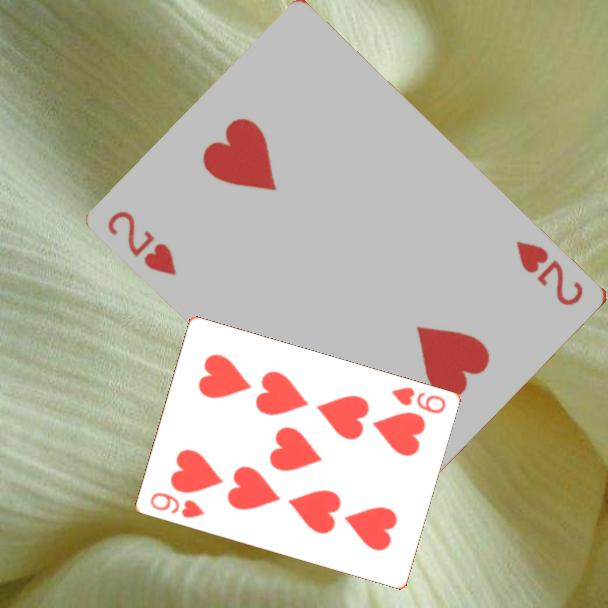h02: (104, 207, 181, 279), (512, 237, 587, 309)
h09: (387, 384, 448, 417), (146, 489, 208, 521)
